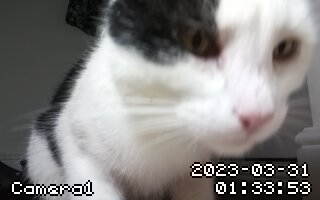bad: (23, 5, 311, 200)
